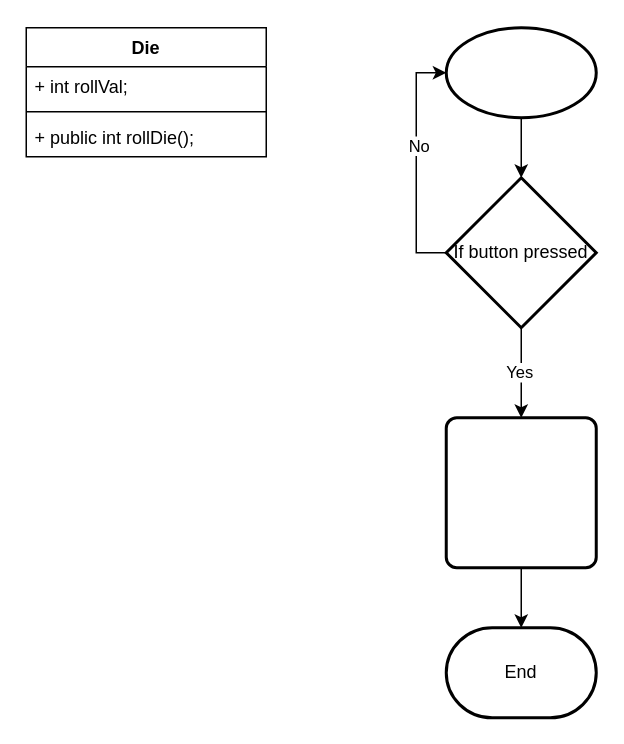
Image size: 624x744. Some labels were removed from this diagram. The shapes that lost their labels are listed below. From the top down, each one's centre as x and y in pixels, then its label:
point (520, 72): Start
point (520, 492): Create Die, Roll Die, Display Result/Image
